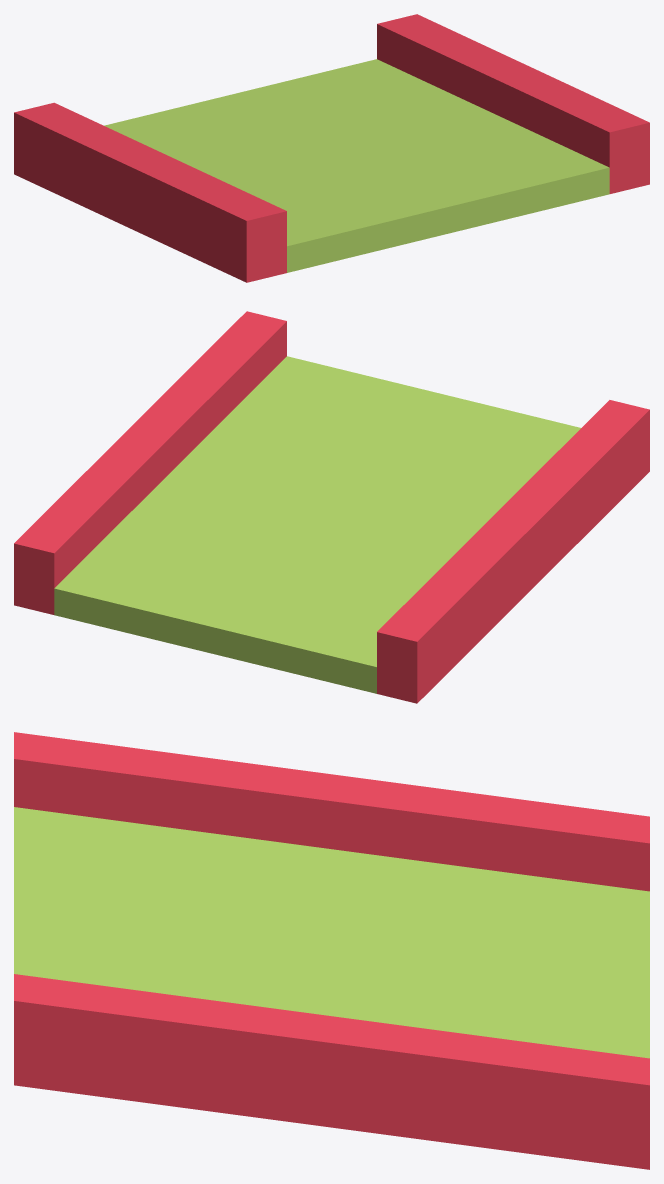
Rendered from rampA.fbx.
The picture shows the model from 3 angles, top to bottom: view 1: azimuth 30°, elevation 25°; view 2: azimuth 150°, elevation 25°; view 3: azimuth 270°, elevation 25°; orthographic projection. The views are drawn at different scales.
Parts seen in each view (by area): view 1: rampA; view 2: rampA; view 3: rampA.
Part boxes in pixels (box(x1,y1,x2,y2)): rampA: box(14, 14, 649, 282); rampA: box(14, 311, 649, 703); rampA: box(14, 732, 649, 1169).
Bounding box in the file's own units: 10 × 2.93 × 10.
